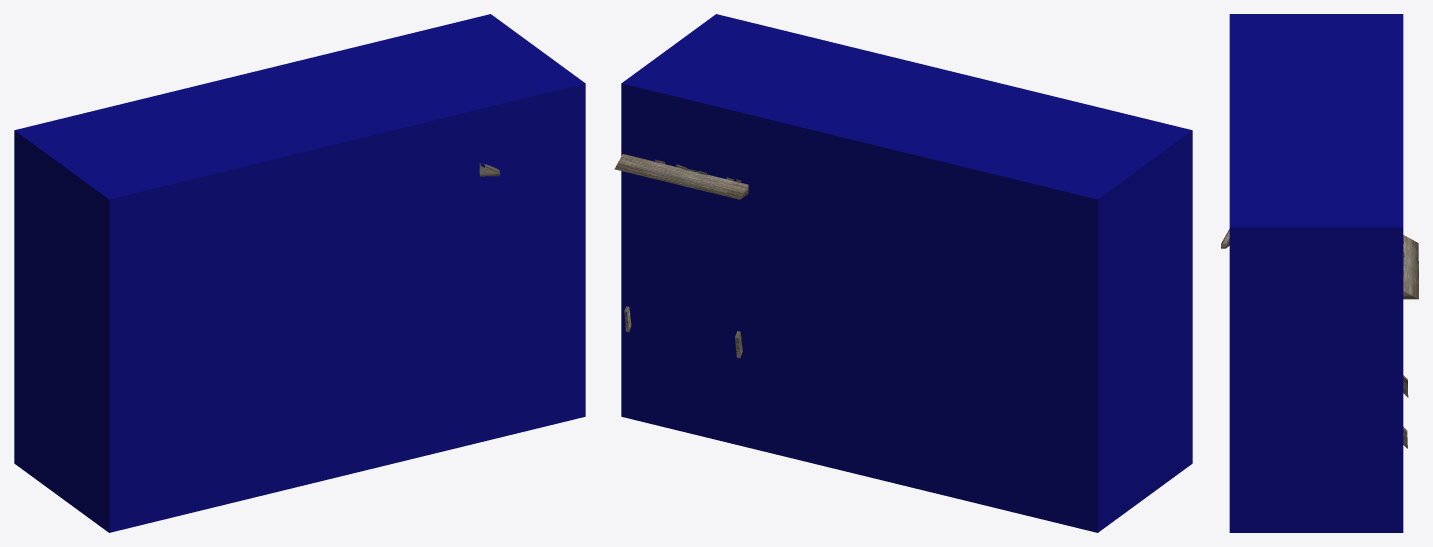
File: bridge_base.DAE
The picture shows the model from 3 angles, left to right: view 1: azimuth 30°, elevation 25°; view 2: azimuth 150°, elevation 25°; view 3: azimuth 270°, elevation 25°; orthographic projection. The views are drawn at different scales.
Parts seen in each view (by area): view 1: bounds; view 2: bounds, col-57; view 3: bounds, col-57.
Part boxes in pixels (x1=…): bounds: x1=14, y1=14, x2=585, y2=532; bounds: x1=621, y1=14, x2=1192, y2=532; col-57: x1=614, y1=154, x2=748, y2=199; bounds: x1=1229, y1=14, x2=1403, y2=532; col-57: x1=1403, y1=235, x2=1418, y2=299.
Size of the model in its own units: 21.7 by 8.51 by 14.51.
